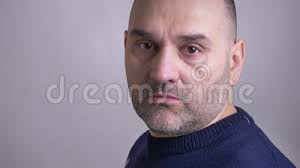white_male: (101, 17, 242, 136)
